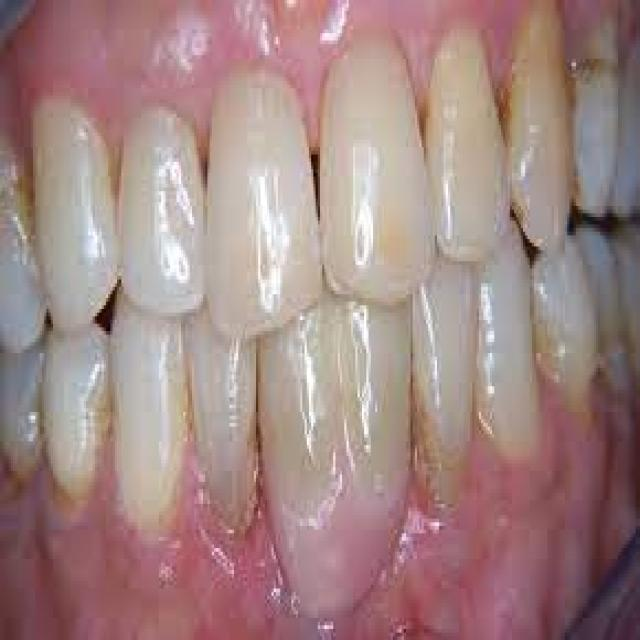tooth: (269, 309, 402, 596), (327, 48, 426, 294), (212, 70, 307, 320), (33, 99, 121, 320), (121, 103, 210, 316), (428, 26, 501, 254), (114, 302, 188, 526), (508, 7, 584, 206), (190, 302, 252, 511), (481, 258, 541, 438), (424, 265, 472, 456), (53, 324, 108, 486), (543, 261, 596, 394), (2, 166, 40, 331), (5, 335, 44, 482), (591, 11, 616, 213), (580, 235, 622, 331)
